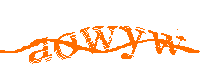a: (27, 35, 52, 65)
o: (54, 29, 81, 59)
w: (79, 23, 117, 53), (149, 27, 186, 57)
y: (118, 23, 147, 62)
